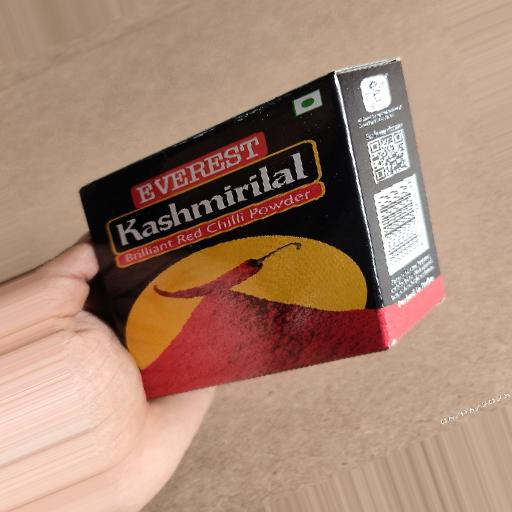Everest Kashmirilal: (69, 45, 469, 442)
